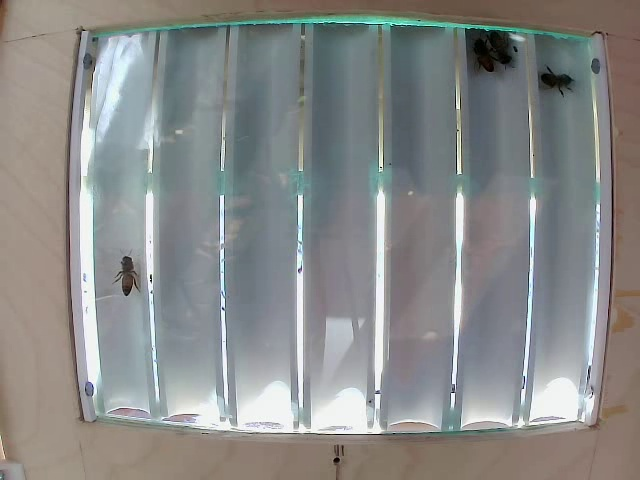bee: (102, 262, 158, 298), (542, 65, 572, 110), (492, 23, 515, 70), (470, 35, 494, 80)
